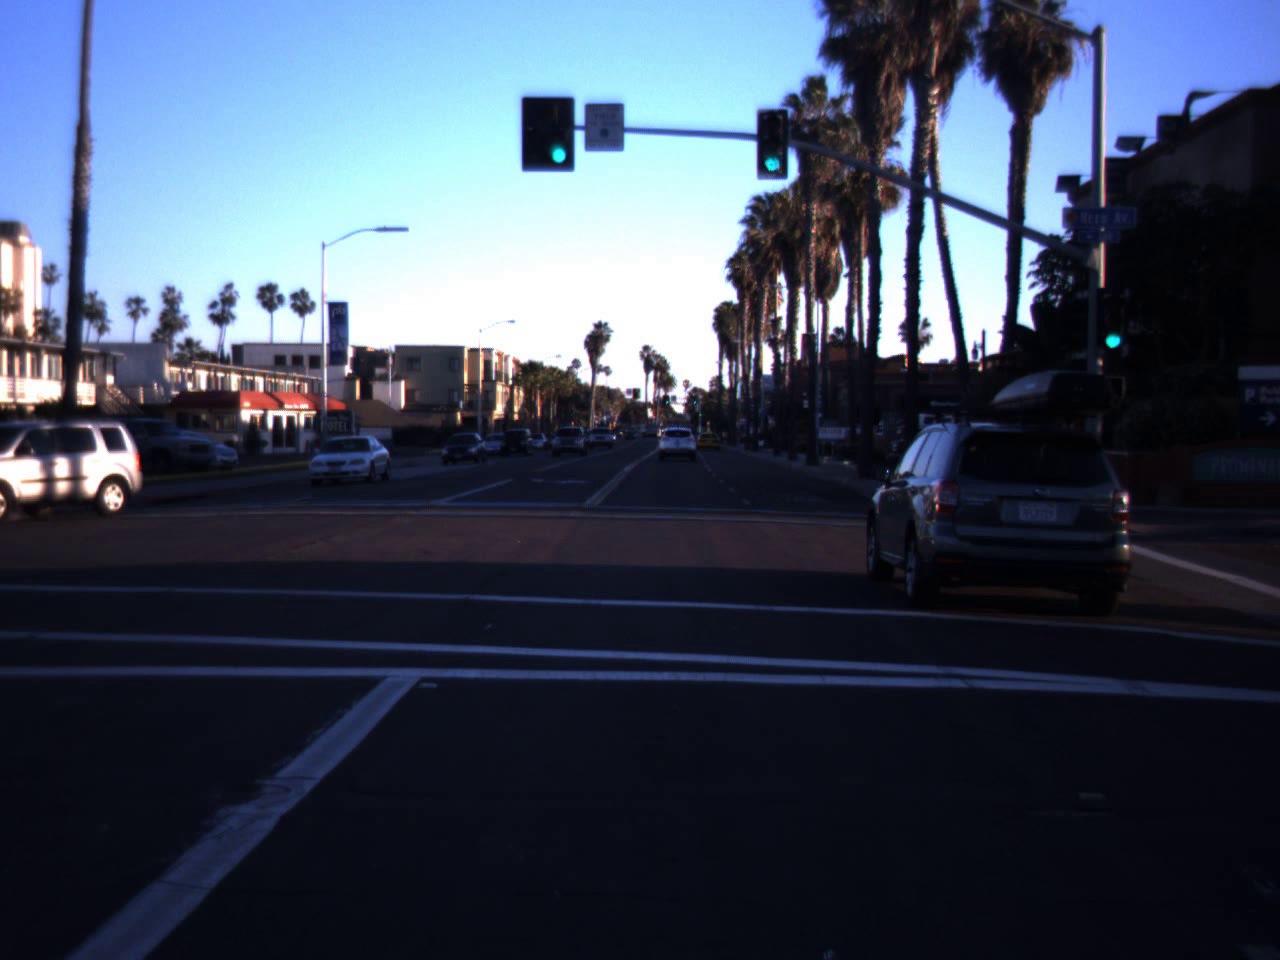go: (541, 103, 577, 168), (1095, 297, 1131, 352), (754, 125, 790, 175)
